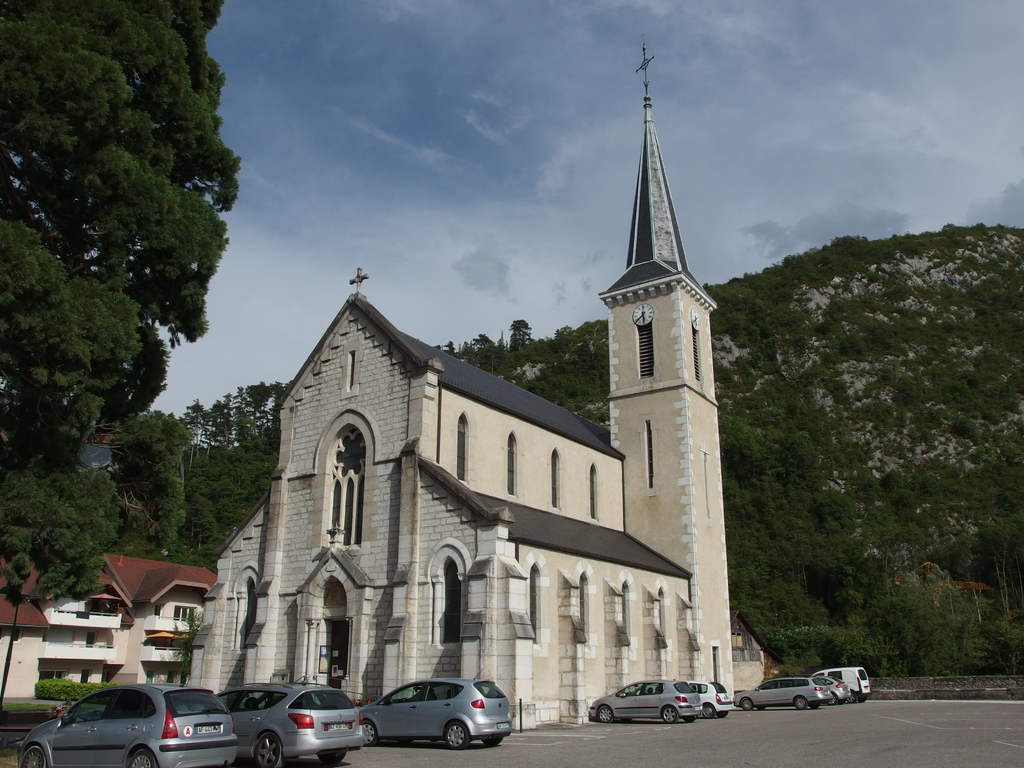Car: (14, 675, 237, 767), (217, 679, 367, 767), (356, 673, 513, 753), (589, 679, 704, 722), (734, 675, 831, 712), (805, 669, 852, 702), (691, 675, 728, 716)
